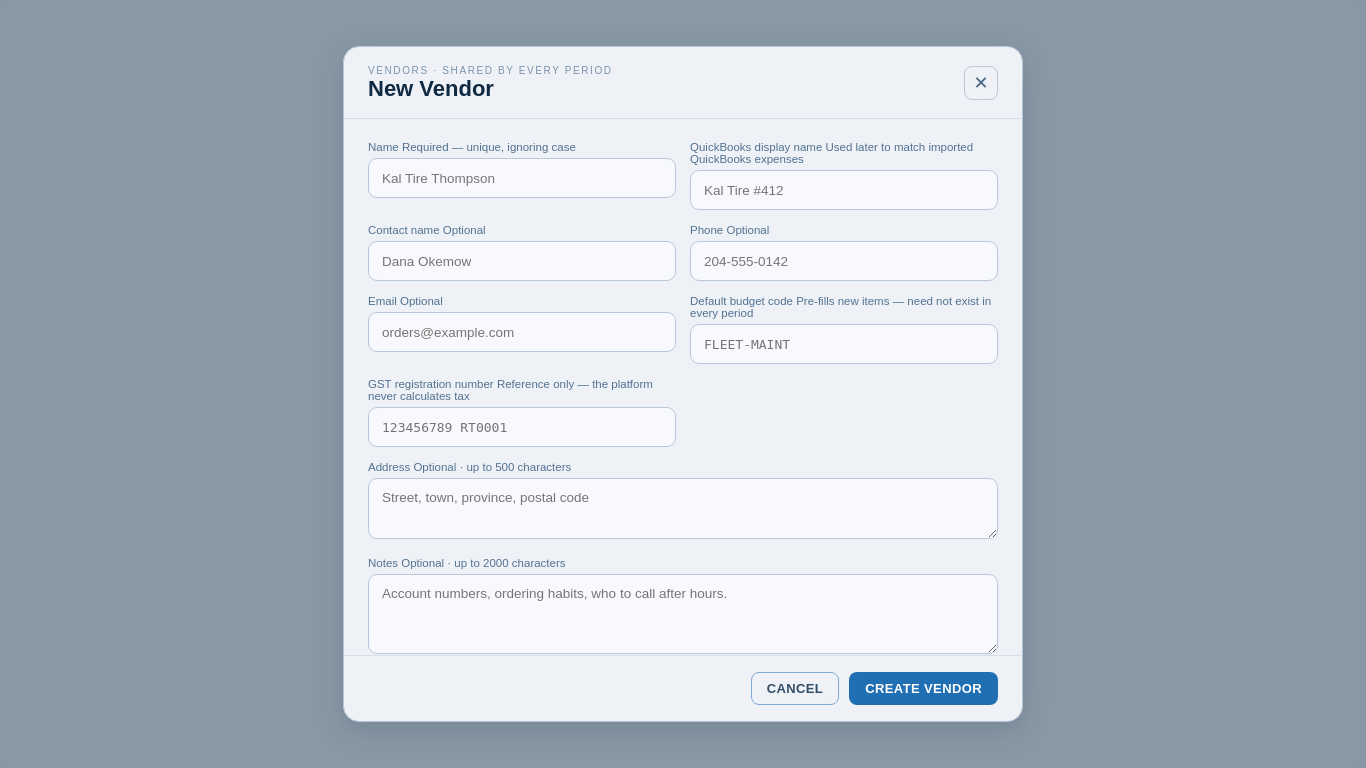
Test case: VendorFormModal — create › refuses a malformed email client-side with the server's own words
Step 1. Type "Esso Thompson" into the field with placeholder "Kal Tire Thompson" → (522, 178), box [368,158,676,198]
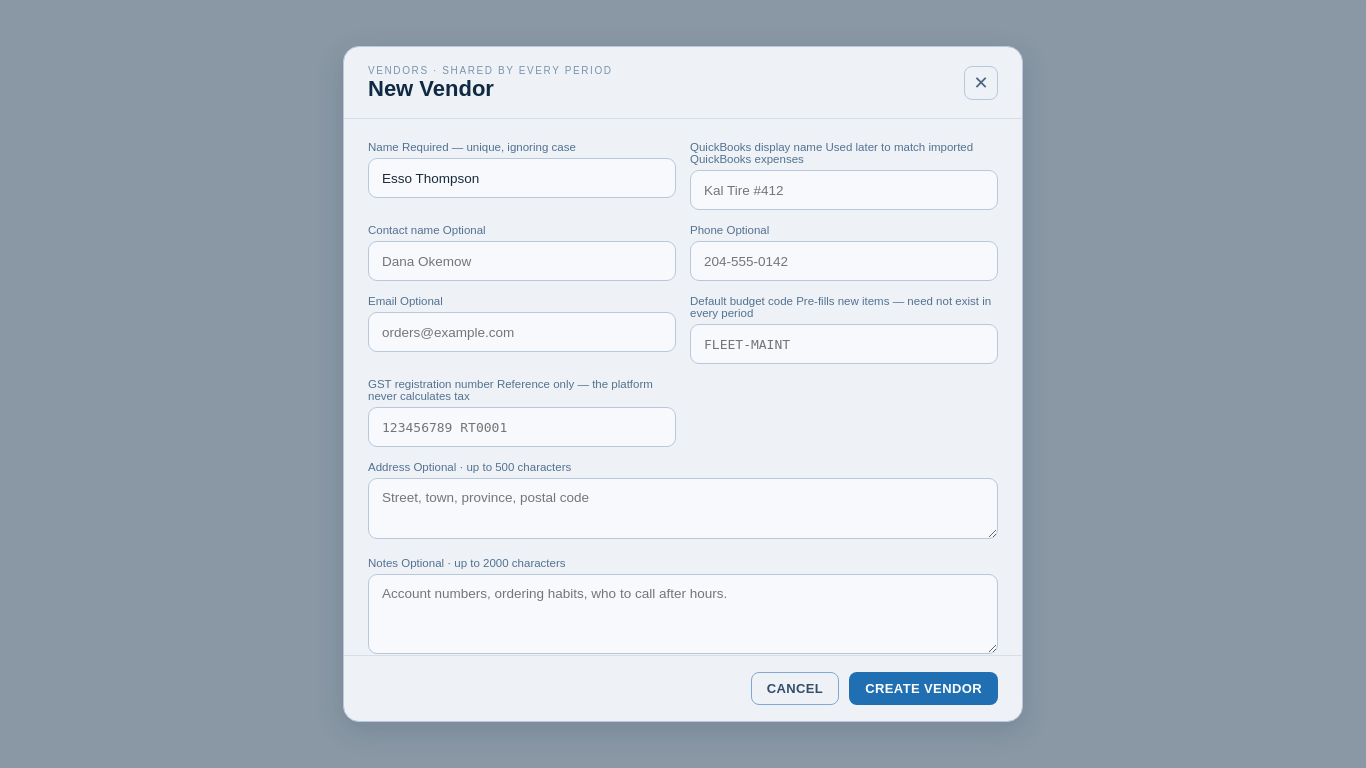
Step 2. Type "204-555-0142" into the field with placeholder "orders@example.com" → (522, 332), box [368,312,676,352]
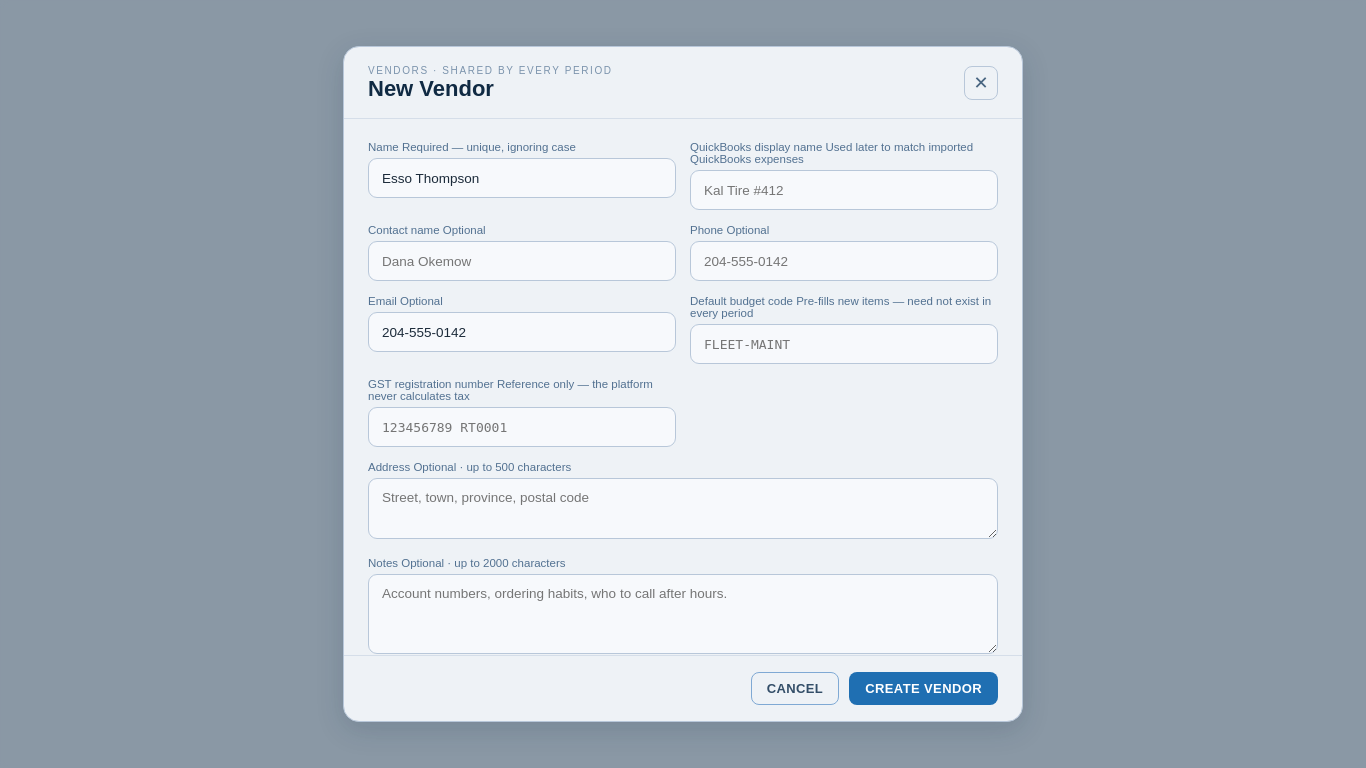
Step 3. Click the text "CREATE VENDOR" → (924, 688), box [849,672,998,705]
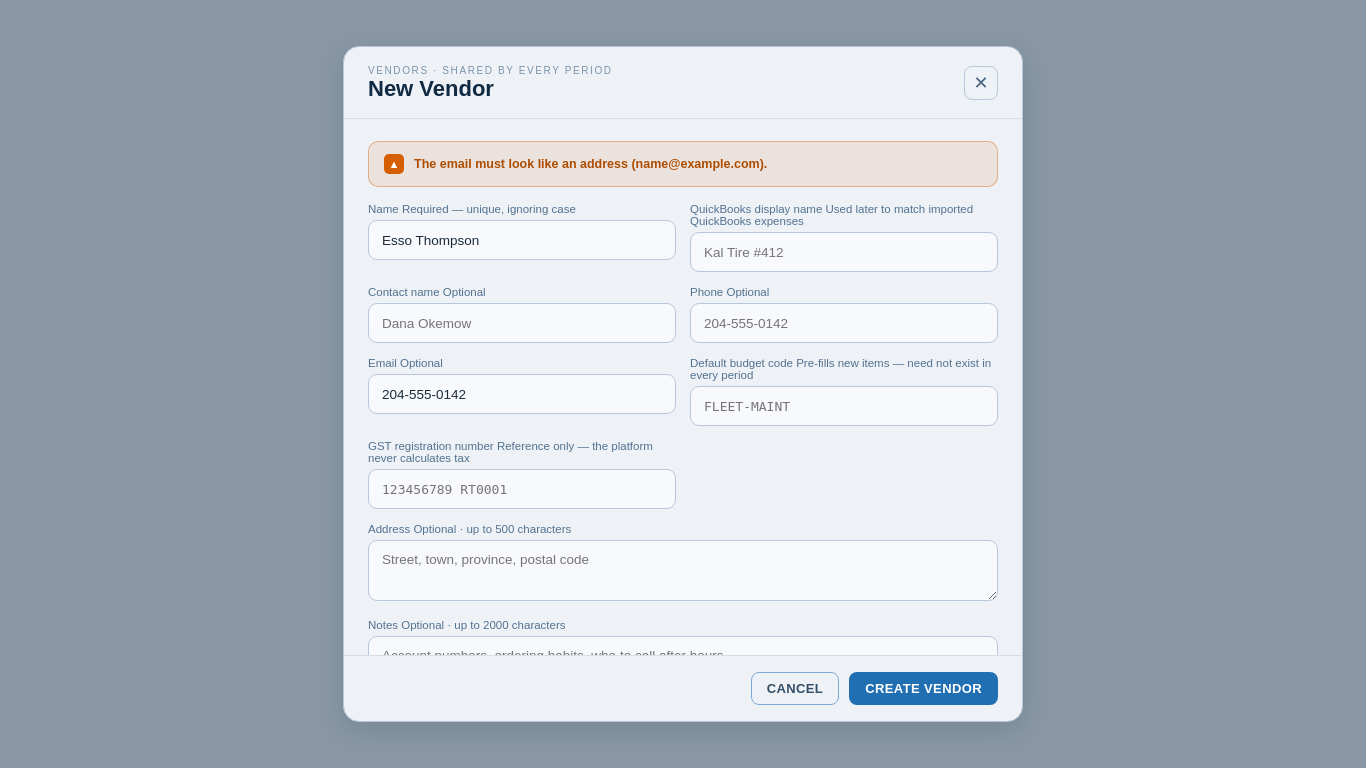
Expected: the text "The email must look like an address (name@example.com)." is shown, [414,157,767,171]
